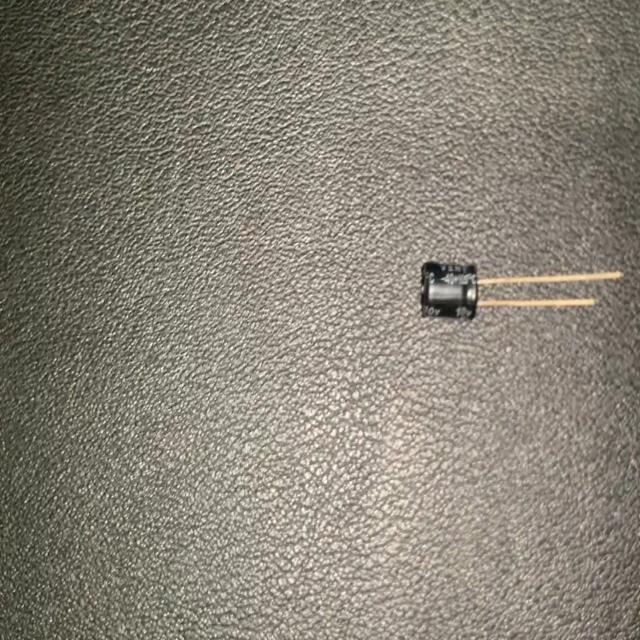capacitor: (418, 255, 625, 319)
